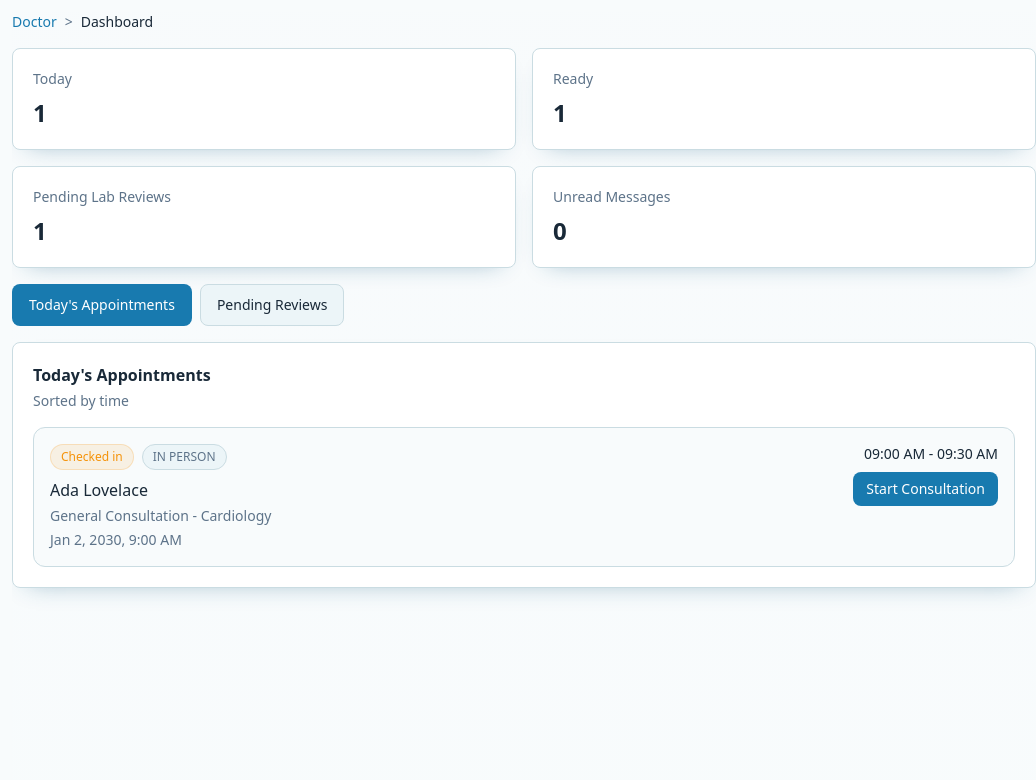
DoctorDashboardPage › shows pending lab reviews from completed backend lab orders
The width and height of the screenshot is (1036, 780).
Expected: the text "1" below "Pending Lab Reviews" is shown, [33, 214, 47, 247]
Click the button "Pending Reviews". click: click(272, 305)
box: [200, 284, 344, 326]
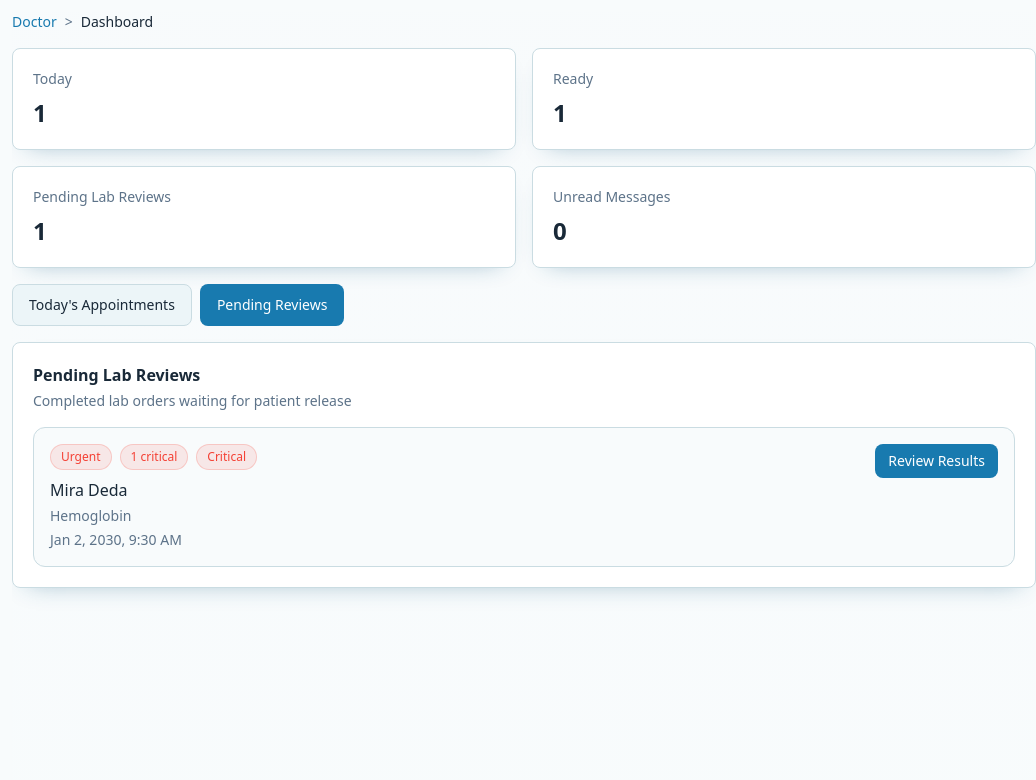
Expected: the text "Mira Deda" is shown, [50, 479, 128, 501]
Expected: the text "Hemoglobin" is shown, [50, 506, 131, 525]
